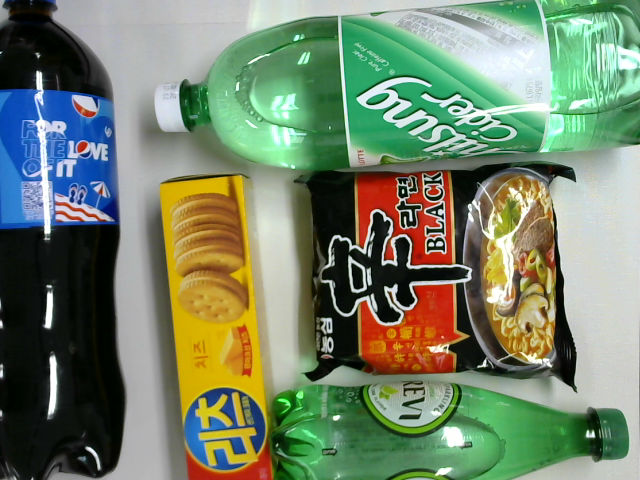Chilseong_Cider_1.5L: (153, 1, 640, 178)
Pepsi_Cola_1.5L: (1, 1, 127, 479)
Ritz_Sand_Cracker: (156, 174, 281, 479)
Sinramen_Black: (290, 158, 583, 397)
Treviraim_500ml: (271, 378, 629, 480)
